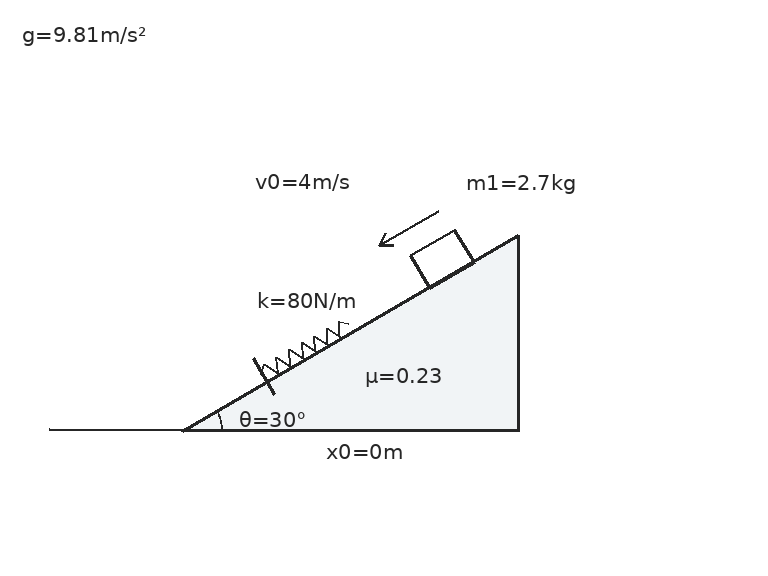block: (408, 227, 475, 289)
ramp: (180, 234, 520, 432)
spring: (259, 319, 351, 376)
